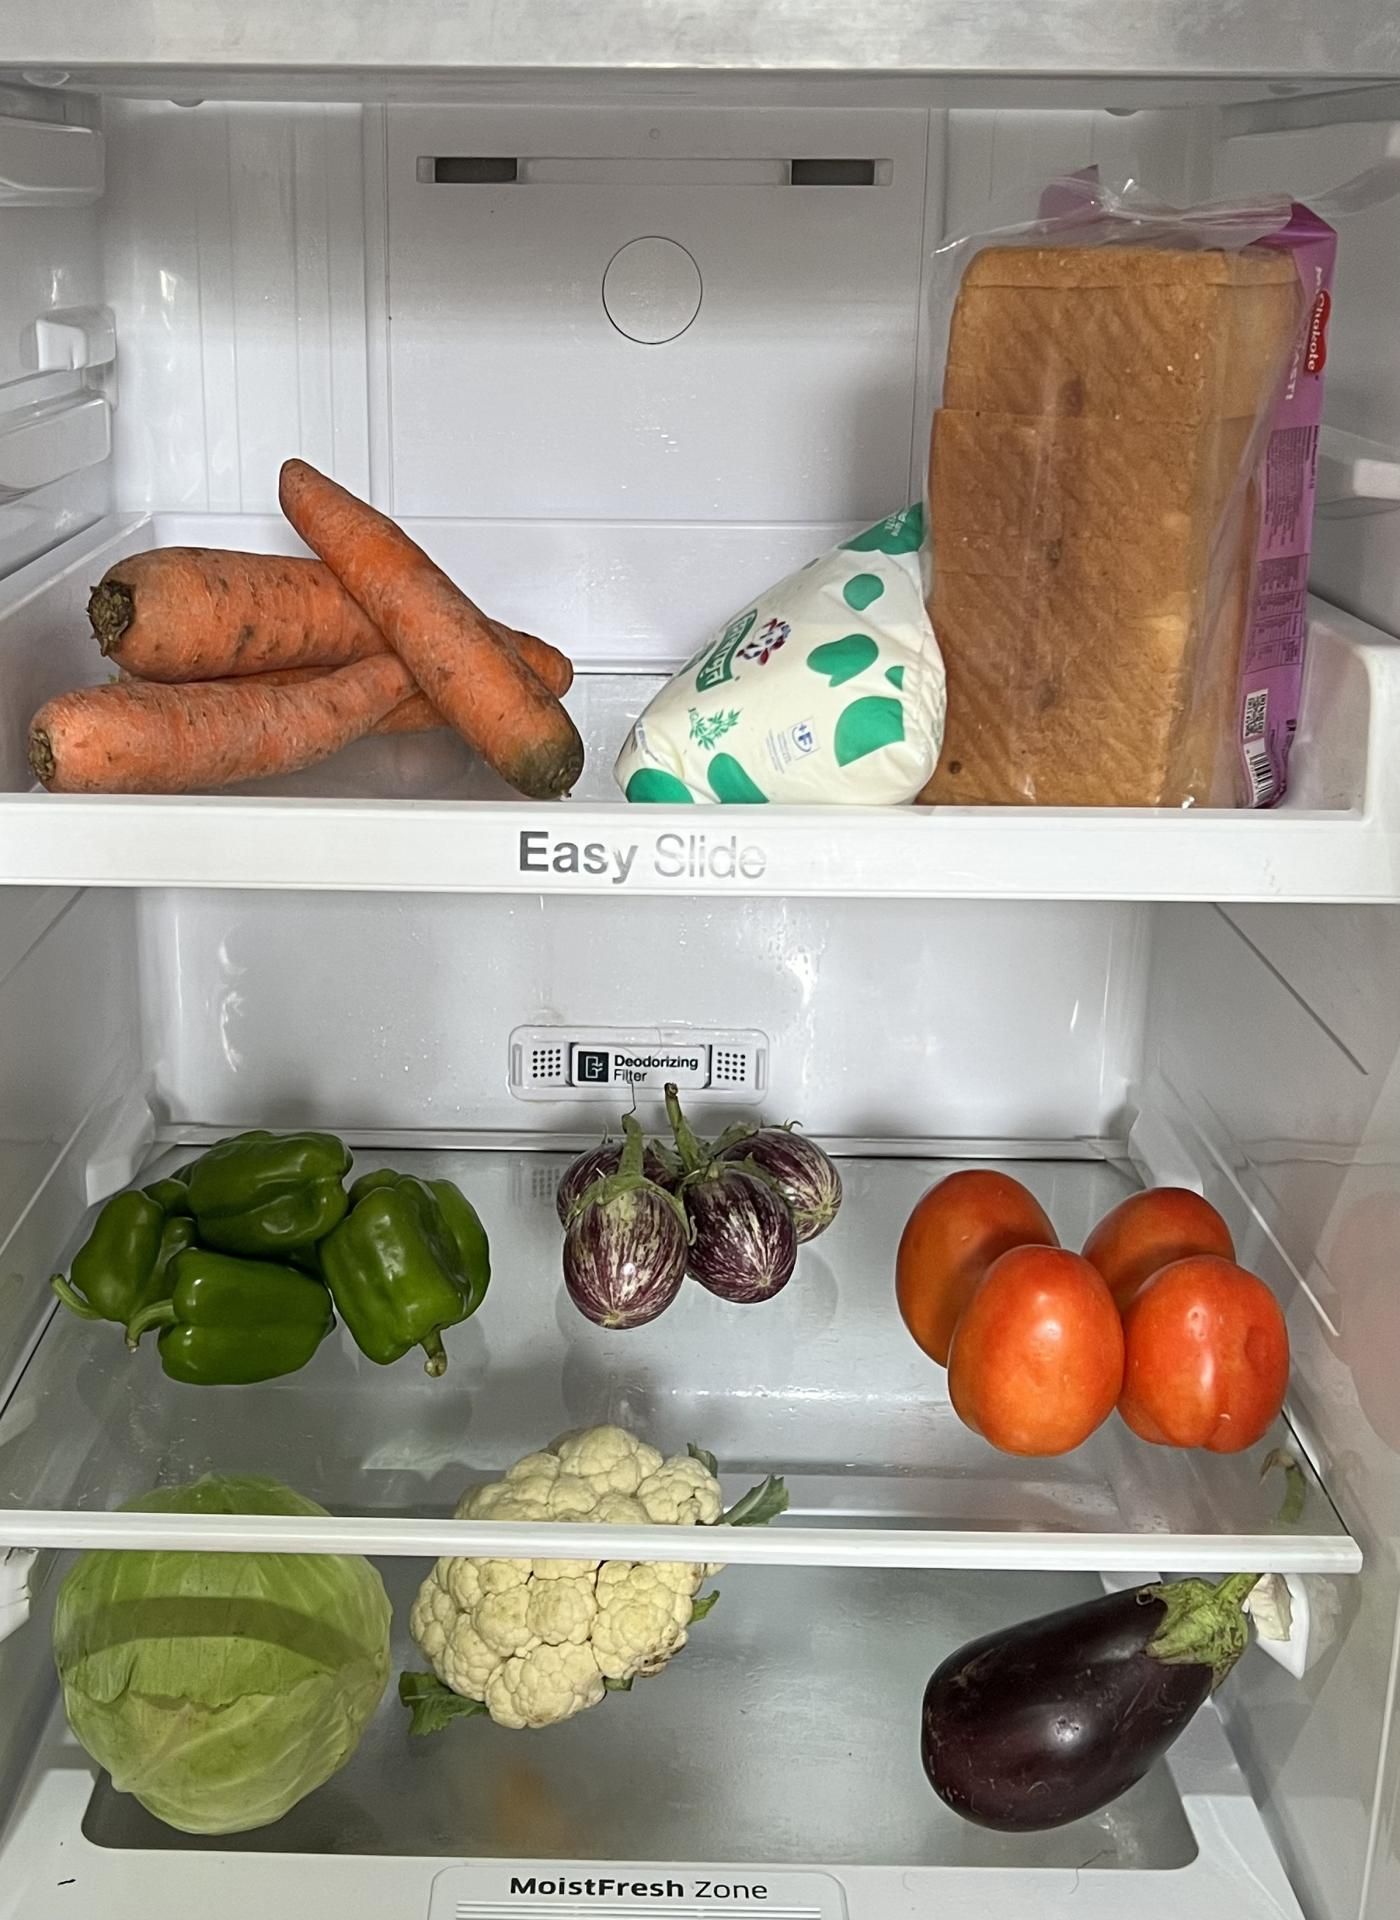bread: (930, 221, 1348, 806)
cabbage: (54, 1473, 379, 1820)
capsicum: (66, 1122, 486, 1383)
carrots: (22, 532, 583, 798)
cauliflower: (422, 1425, 725, 1708)
milk: (607, 538, 936, 800)
tomato: (896, 1164, 1291, 1455)
